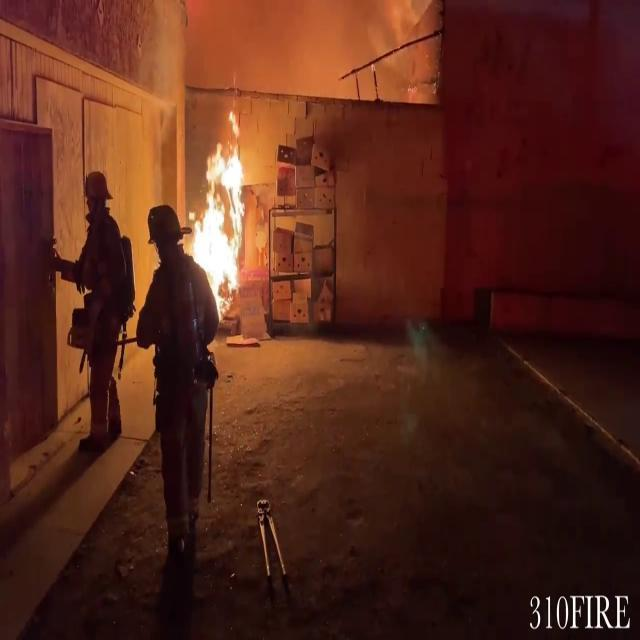Fire: (189, 114, 253, 306)
